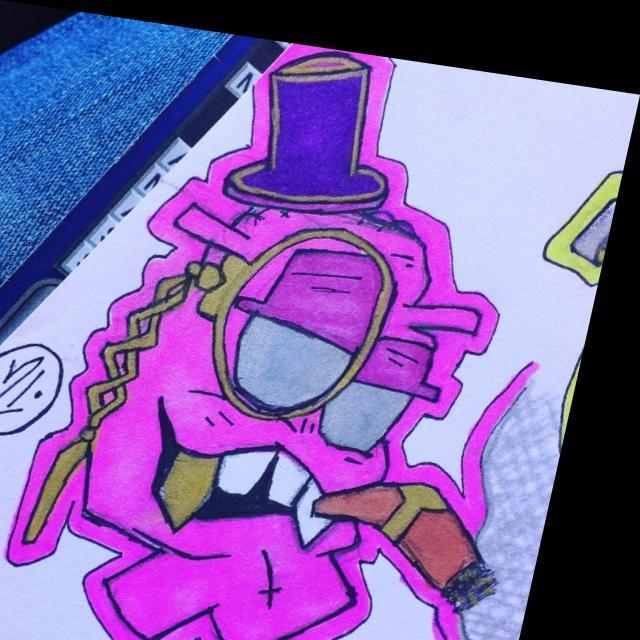-: (15, 14, 609, 640)
